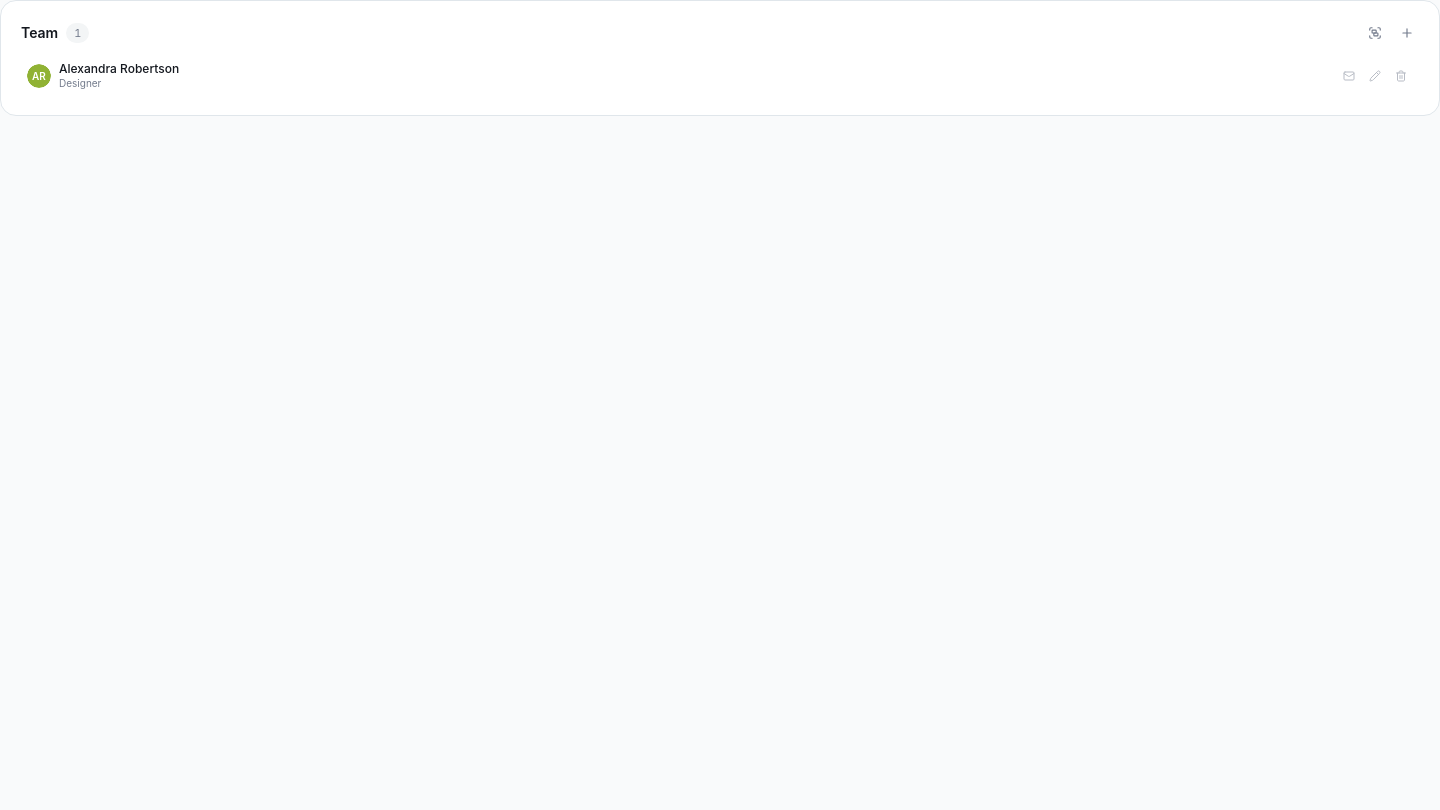
Test case: TeamBlock — mobile add/edit/remove (M3) › opens the remove-confirm sheet instead of firing delete directly
Click the button named "Remove from team". click: x=1401, y=76
box: x1=1389 y1=64 x2=1413 y2=88
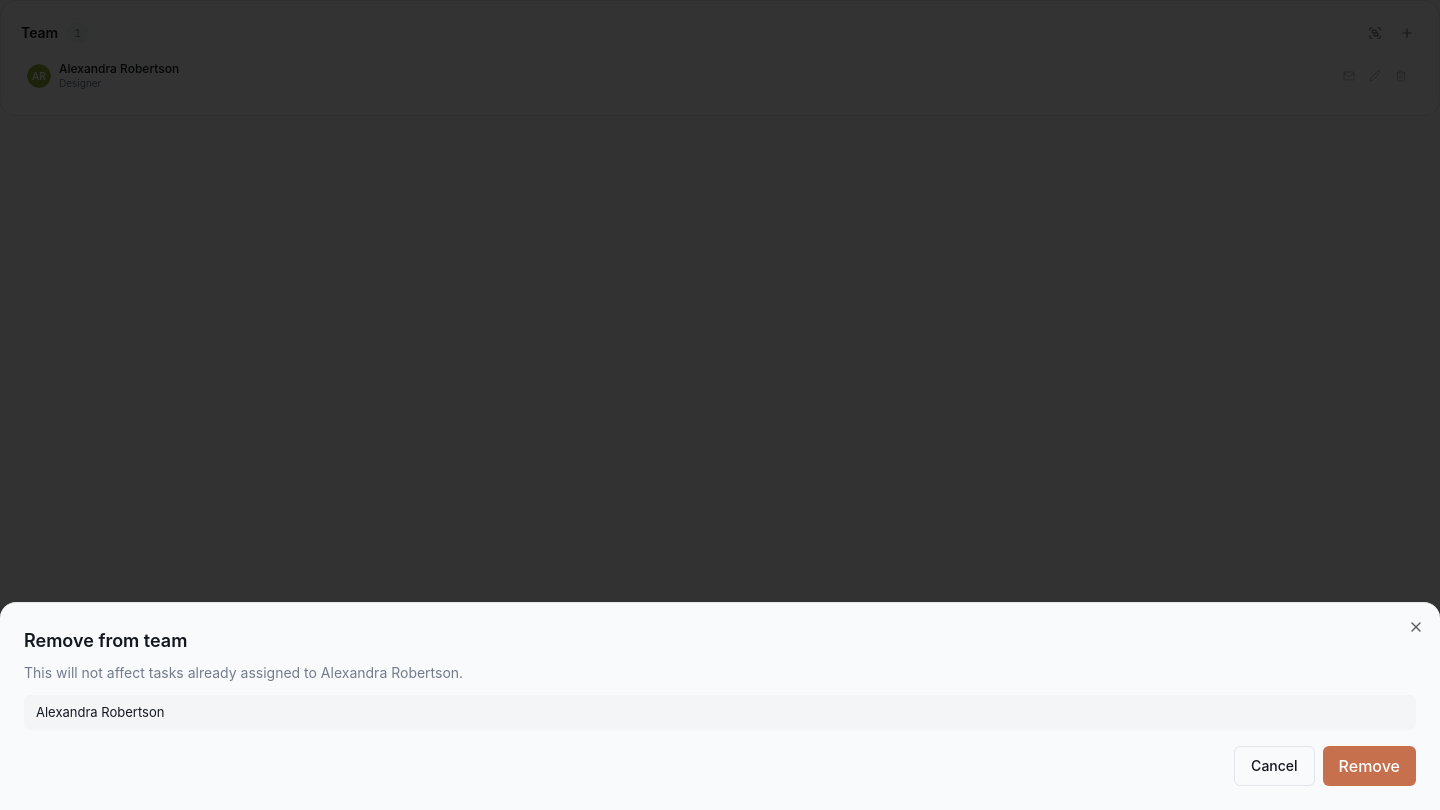
Expected: the dialog shows "Remove from team", x1=24 y1=630 x2=187 y2=650
Expected: the dialog shows "Alexandra Robertson", x1=36 y1=704 x2=164 y2=720
